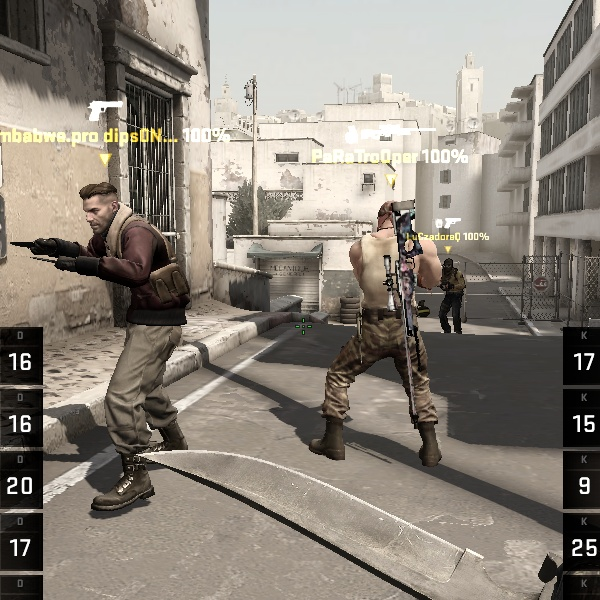t_body: (438, 257, 470, 337)
t_head: (443, 257, 455, 274)
